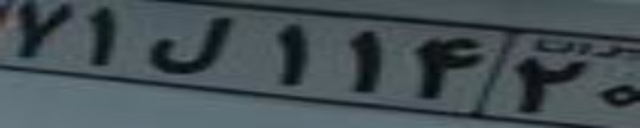0: (596, 81, 636, 107)
1: (346, 27, 381, 92), (275, 22, 299, 84), (86, 6, 109, 66)
2: (514, 55, 587, 113)
4: (417, 37, 485, 99)
7: (17, 1, 75, 60)
lam: (141, 16, 236, 75)
